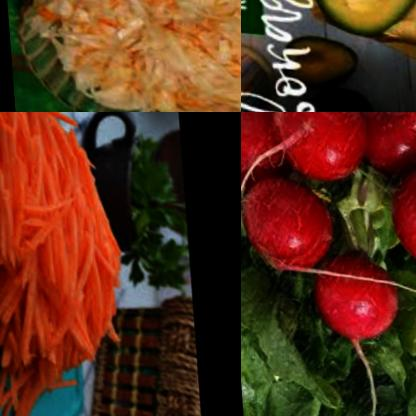avocado: (271, 26, 360, 90), (285, 65, 382, 112), (305, 0, 416, 41)
cabbage: (22, 0, 241, 112)
carrot: (0, 112, 137, 416), (28, 3, 65, 30), (171, 85, 201, 112)
rediska: (241, 168, 327, 276), (306, 249, 398, 343), (264, 112, 366, 178), (241, 112, 292, 194), (380, 153, 416, 263), (354, 112, 416, 172)
